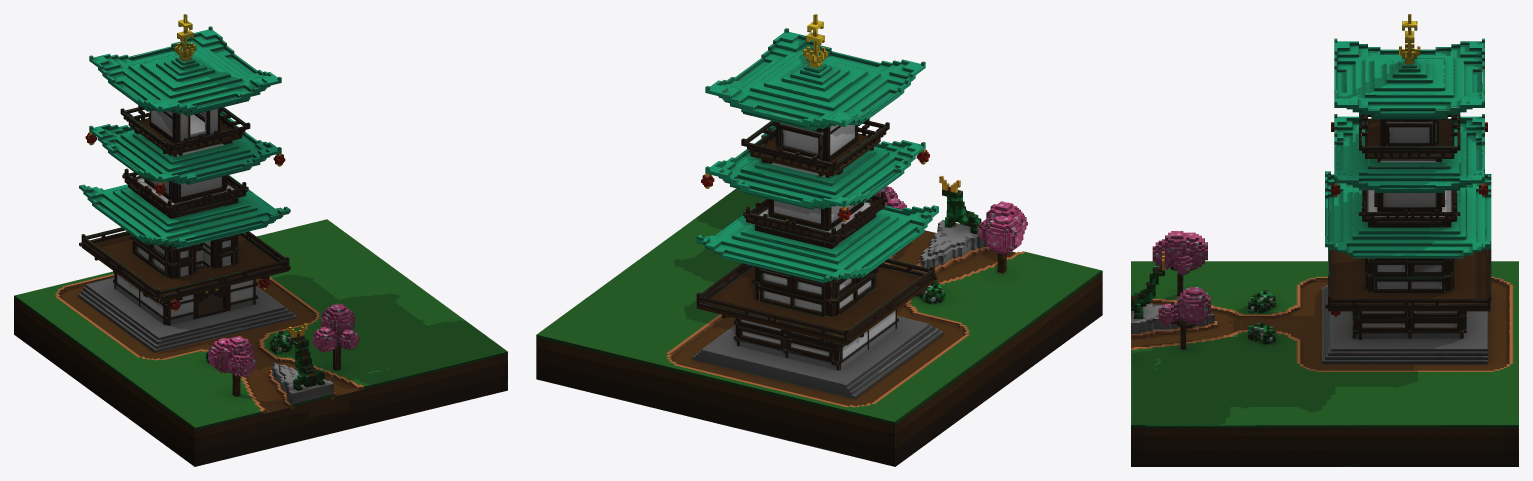
The picture shows the model from 3 angles, left to right: view 1: azimuth 30°, elevation 25°; view 2: azimuth 150°, elevation 25°; view 3: azimuth 270°, elevation 25°; orthographic projection. The views are drawn at different scales.
Visible parts, largest first — view 1: _C; view 2: _C; view 3: _C.
Boxes of the visible parts, x1,y1,x2,y2 form: _C: (14, 14, 507, 466); _C: (536, 14, 1102, 466); _C: (1131, 14, 1518, 466).
Size of the model in its own units: 126 by 126 by 126.
1 material, 1 textured.
